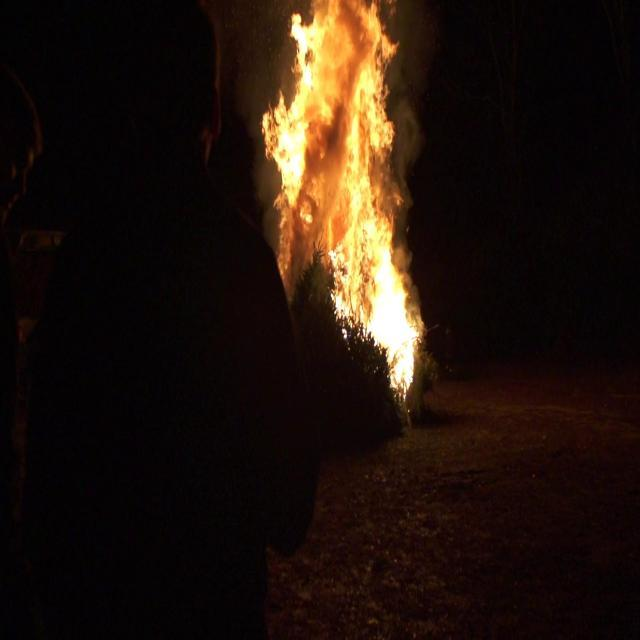Fire: (260, 0, 422, 397)
